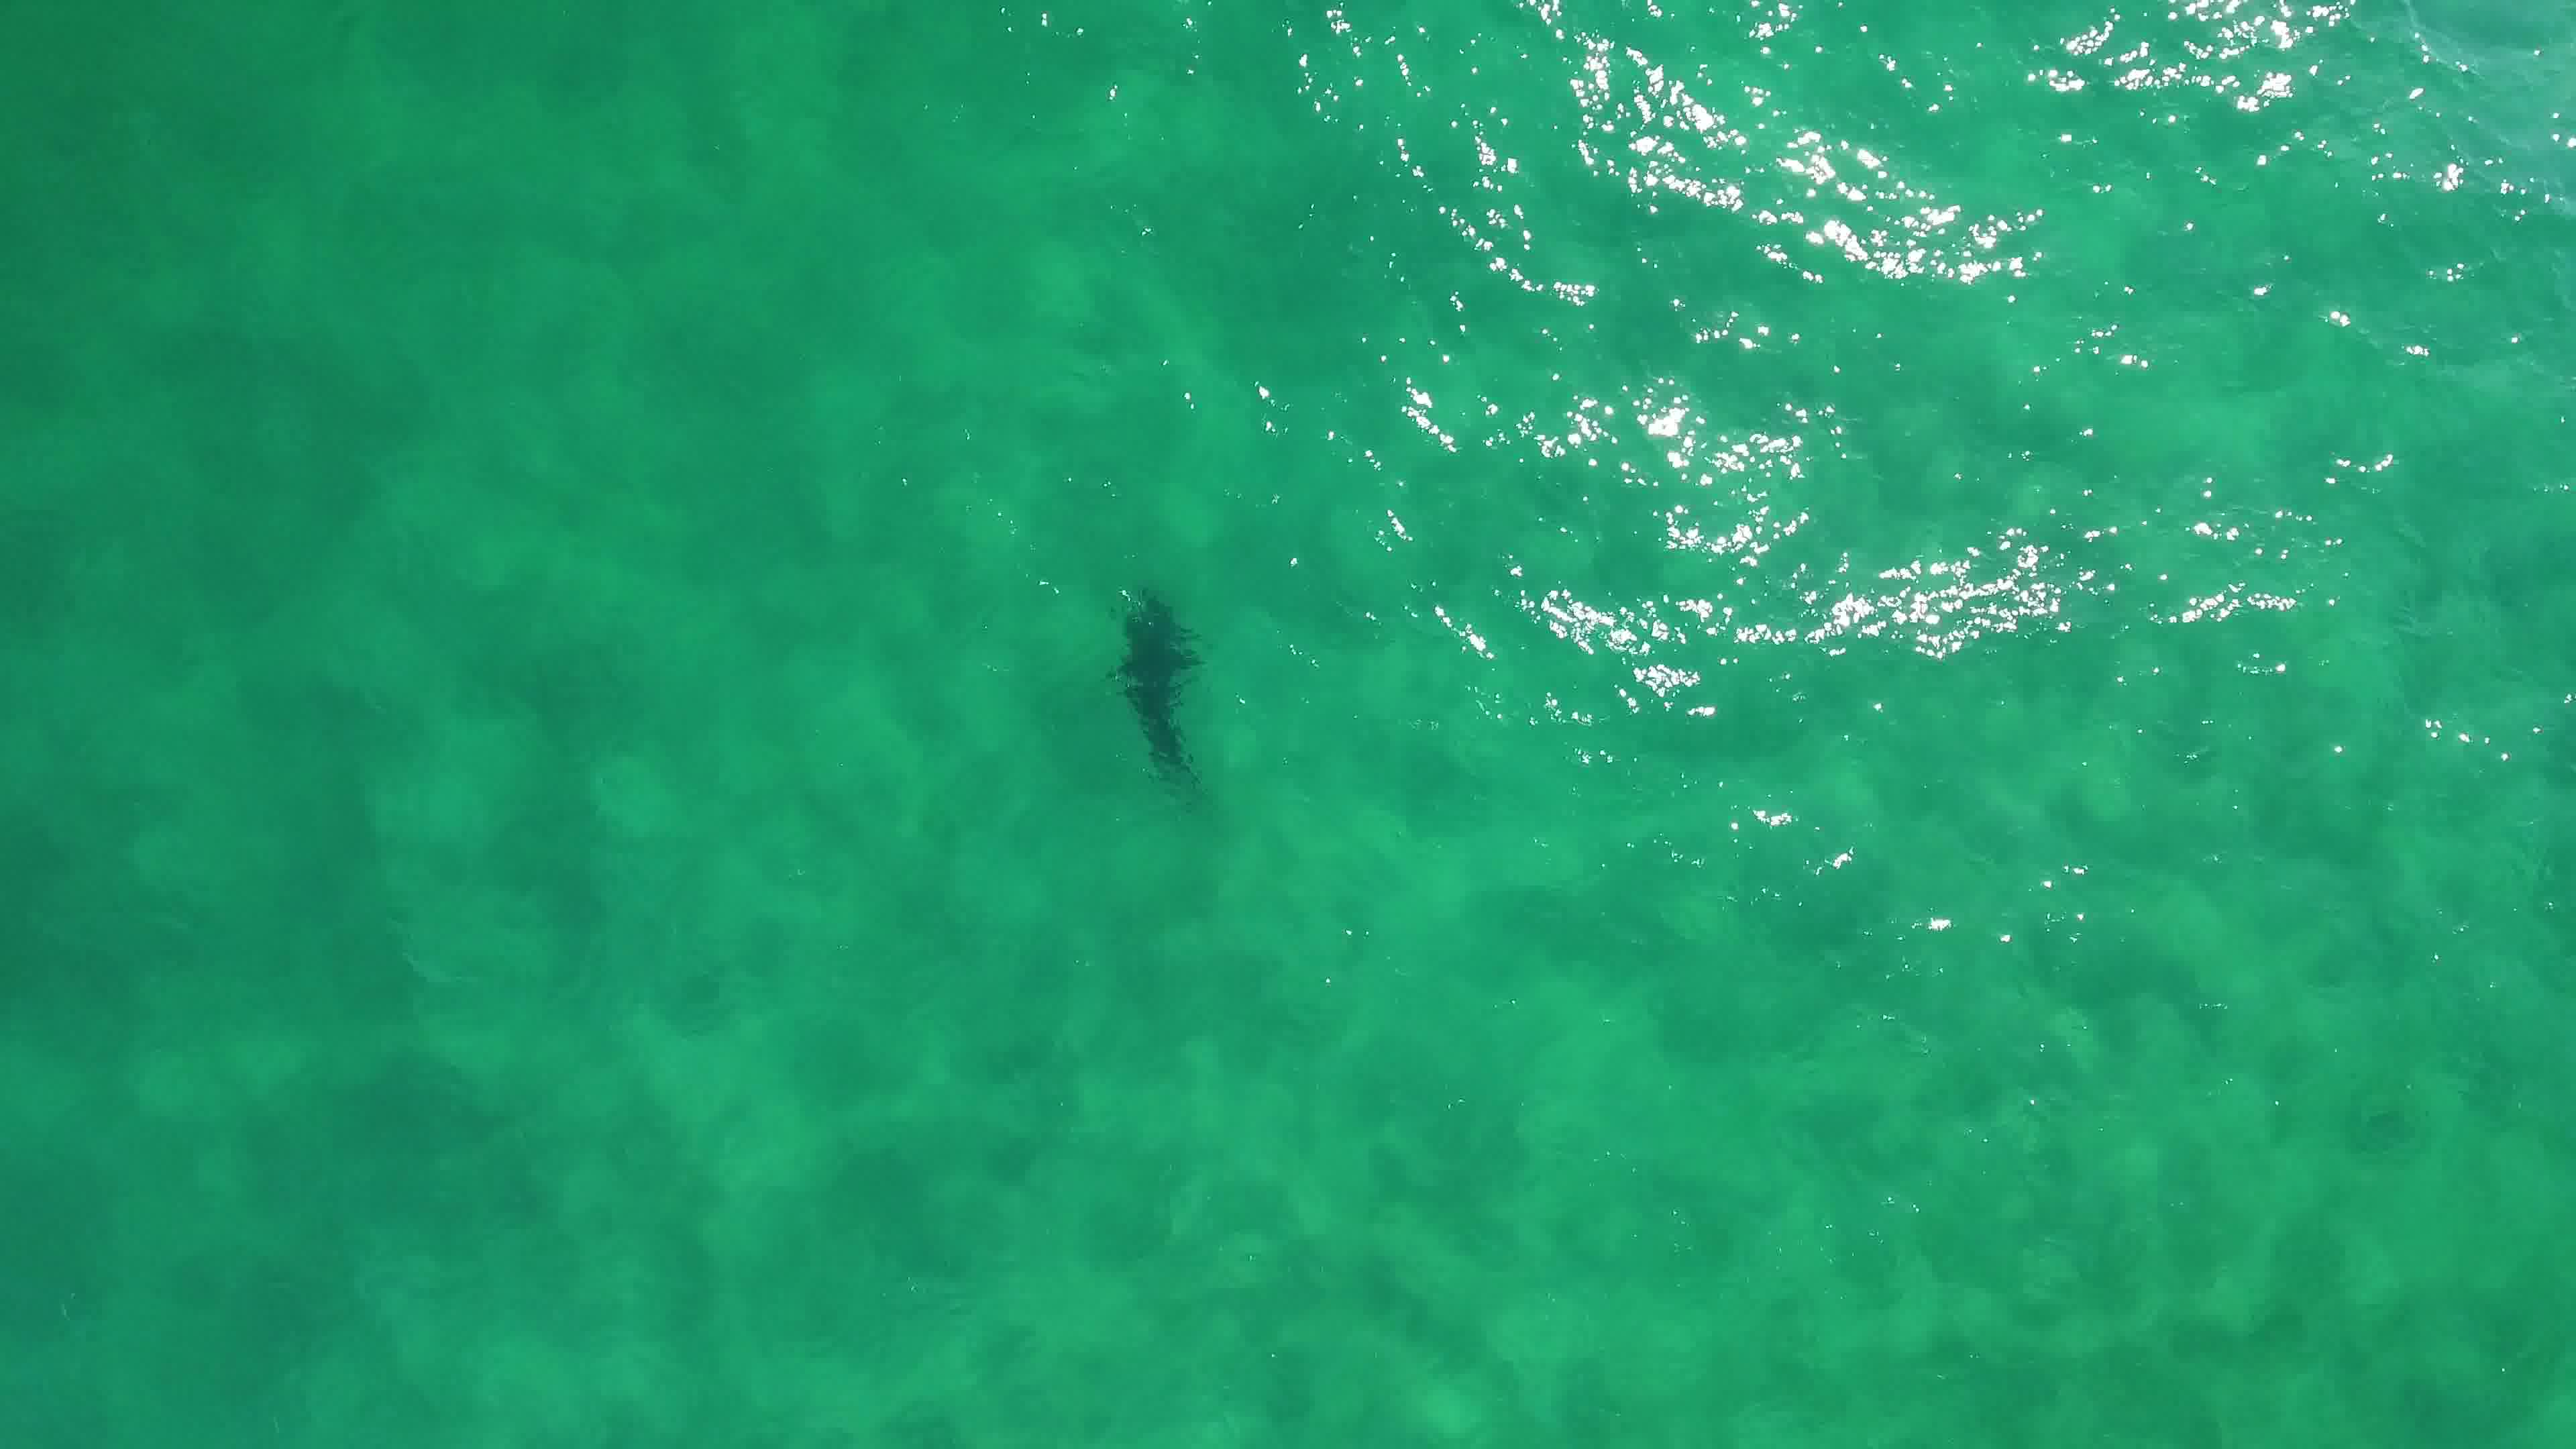shark: (1099, 589, 1212, 793)
